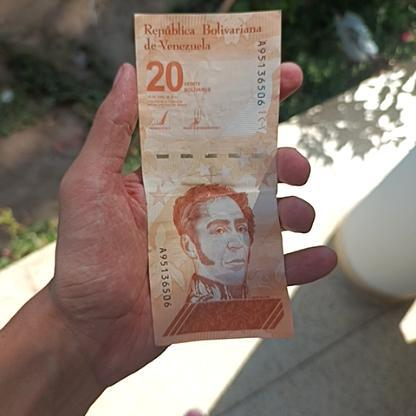twenty-front-vef: (132, 12, 291, 345)
